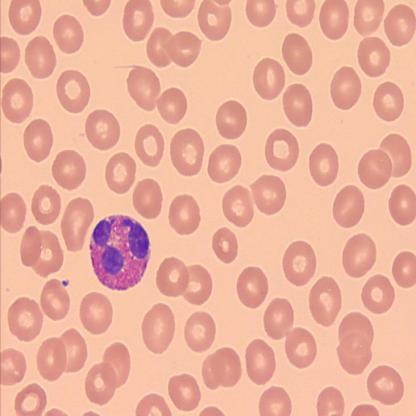Eosinophil: (91, 213, 151, 290), (90, 211, 97, 214)
